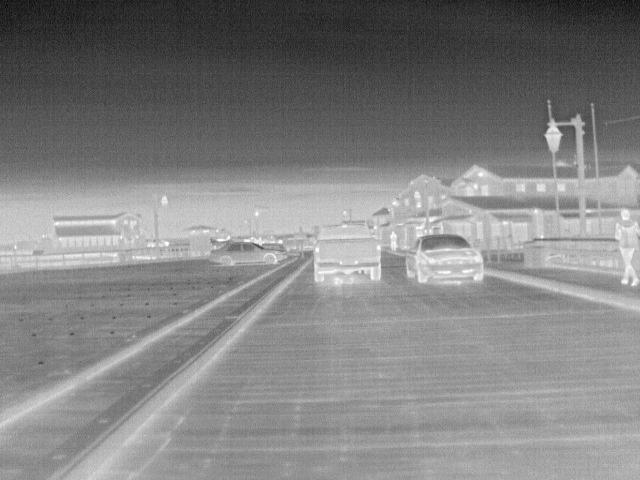car: (406, 233, 488, 286), (313, 222, 384, 282), (204, 239, 289, 266)
person: (617, 206, 640, 289), (388, 228, 400, 255)
